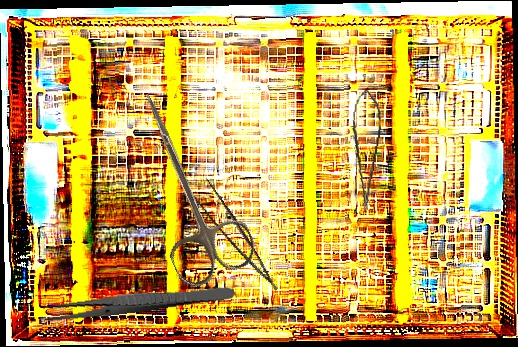Dressing Forceps: (41, 280, 236, 324)
Iris Scissors: (105, 78, 262, 293)
Micro Scissor: (340, 88, 387, 211)
Tissue Forceps: (187, 174, 279, 303)
